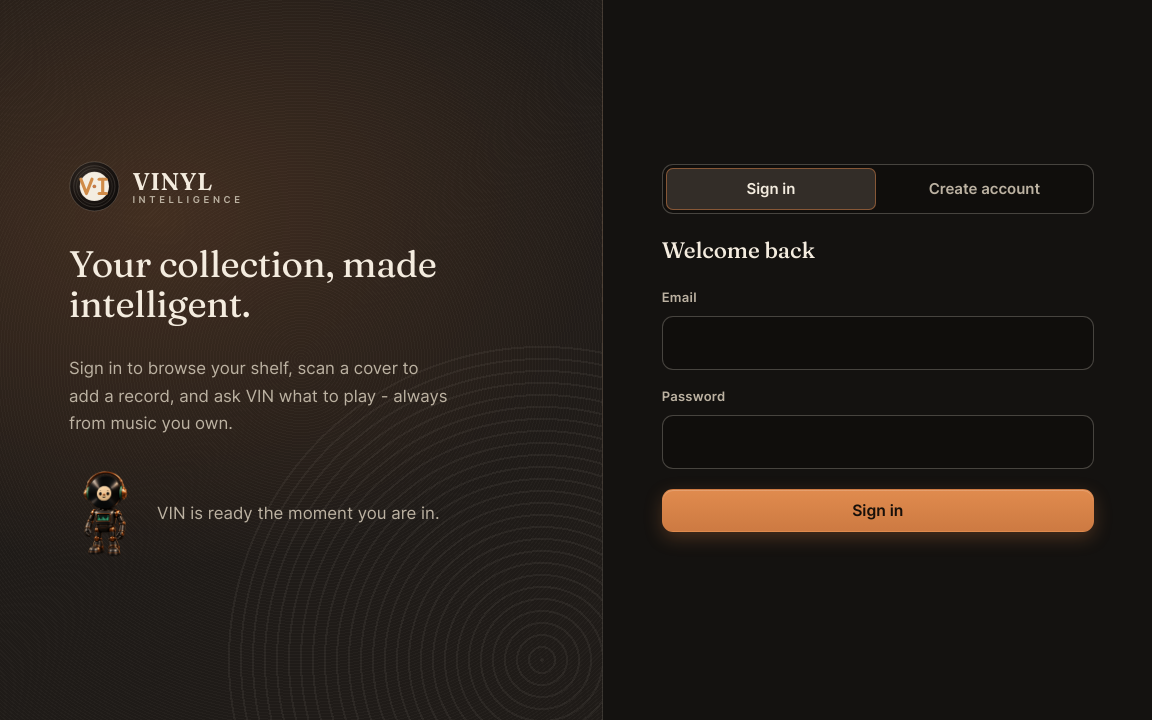
it: auth and profile workflow (routed) › keeps signup and sign-in controls available after failed signup
Click the tab "Create account".
click(984, 189)  # box [879,168,1090,210]
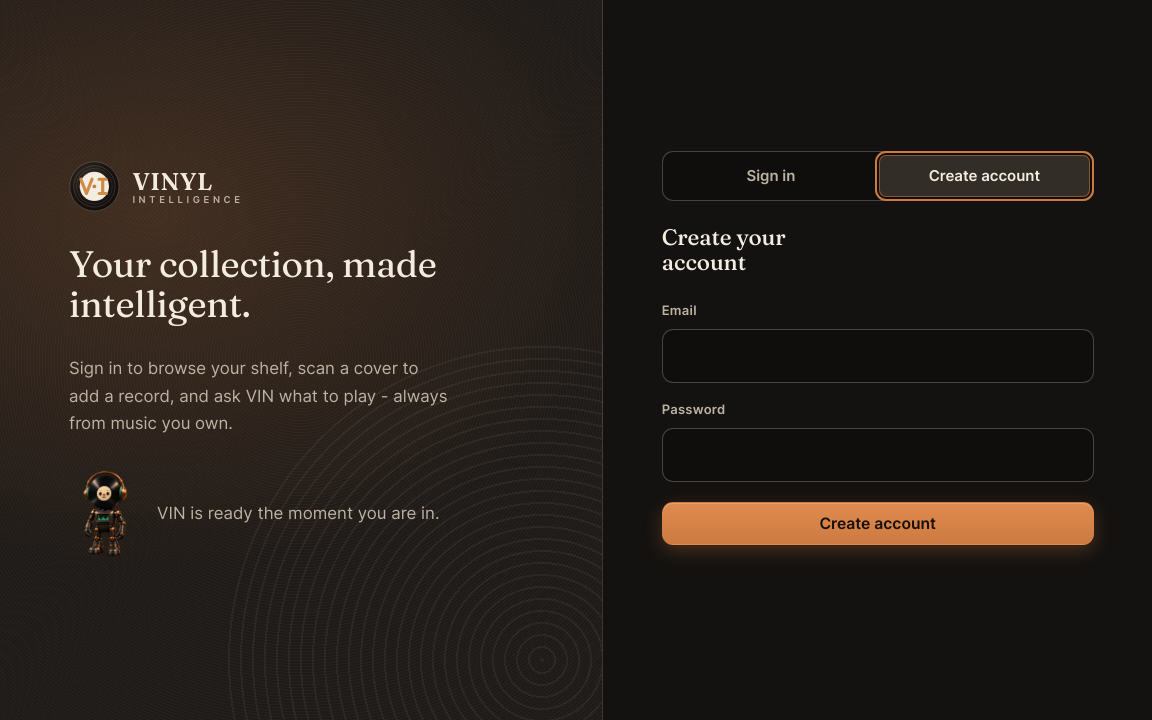
Type "new@example.test" into the field labelled "Email".
click(878, 356); type("new@example.test")  # box [662,329,1094,383]
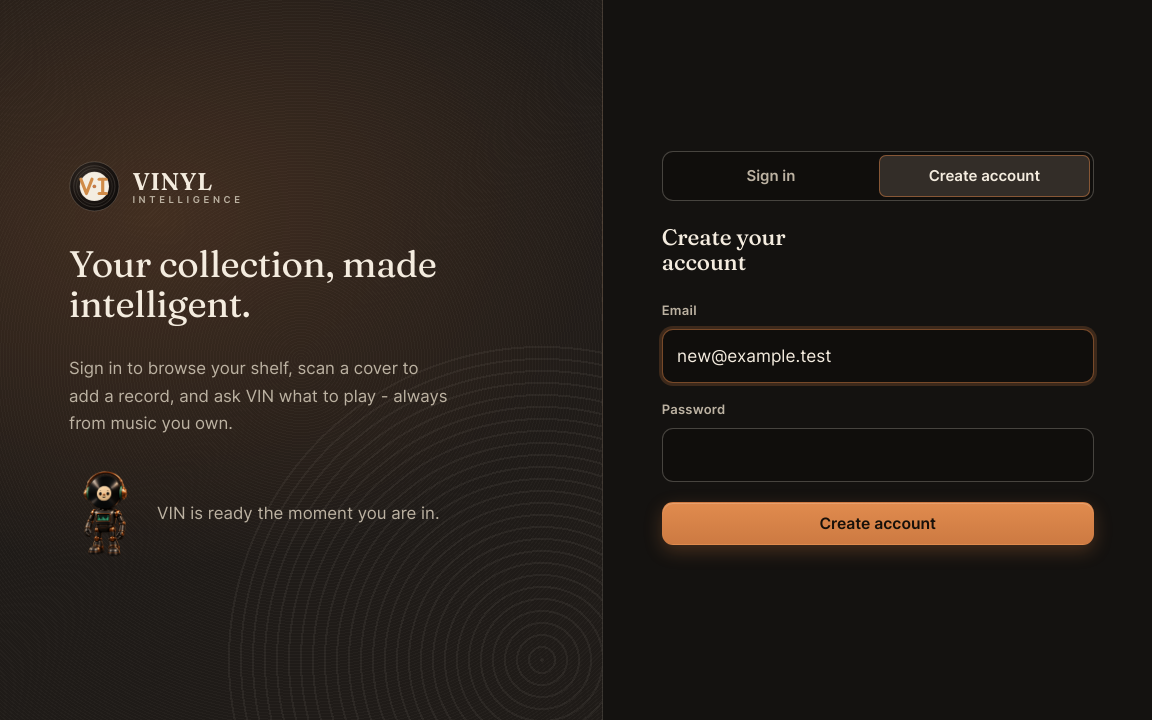
Type "password123" into the password field labelled "Password".
click(878, 455); type("password123")  # box [662,428,1094,482]
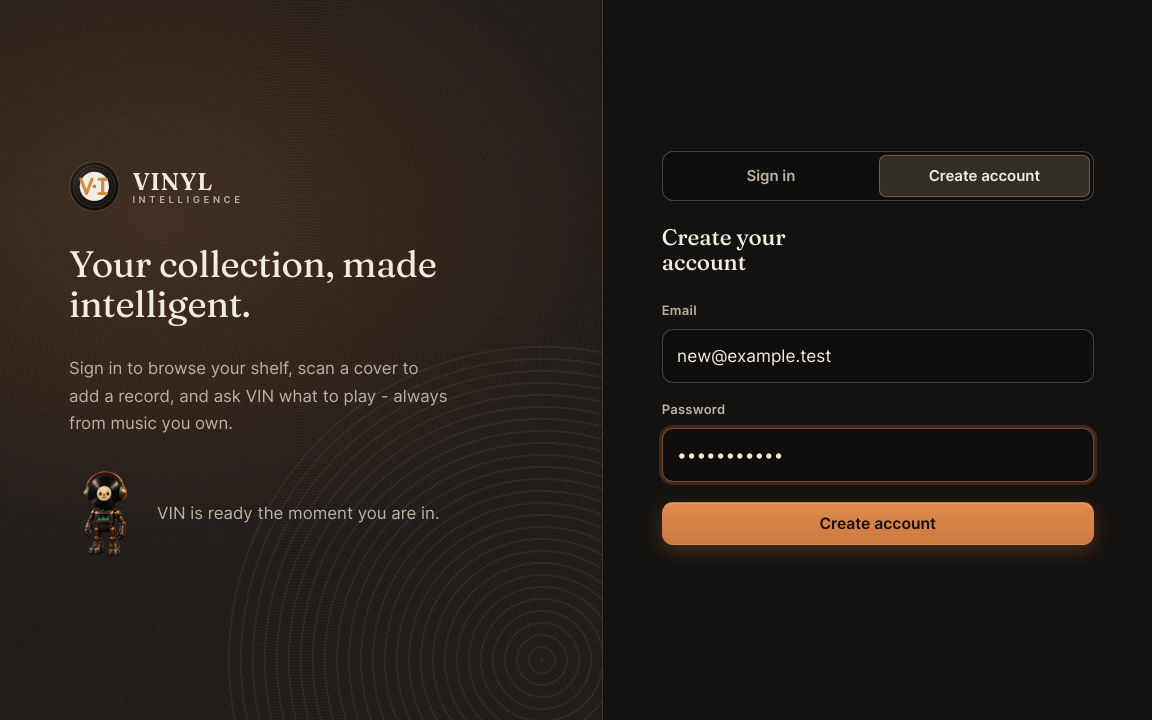
Click the button "Create account".
click(878, 523)  # box [662,502,1094,545]
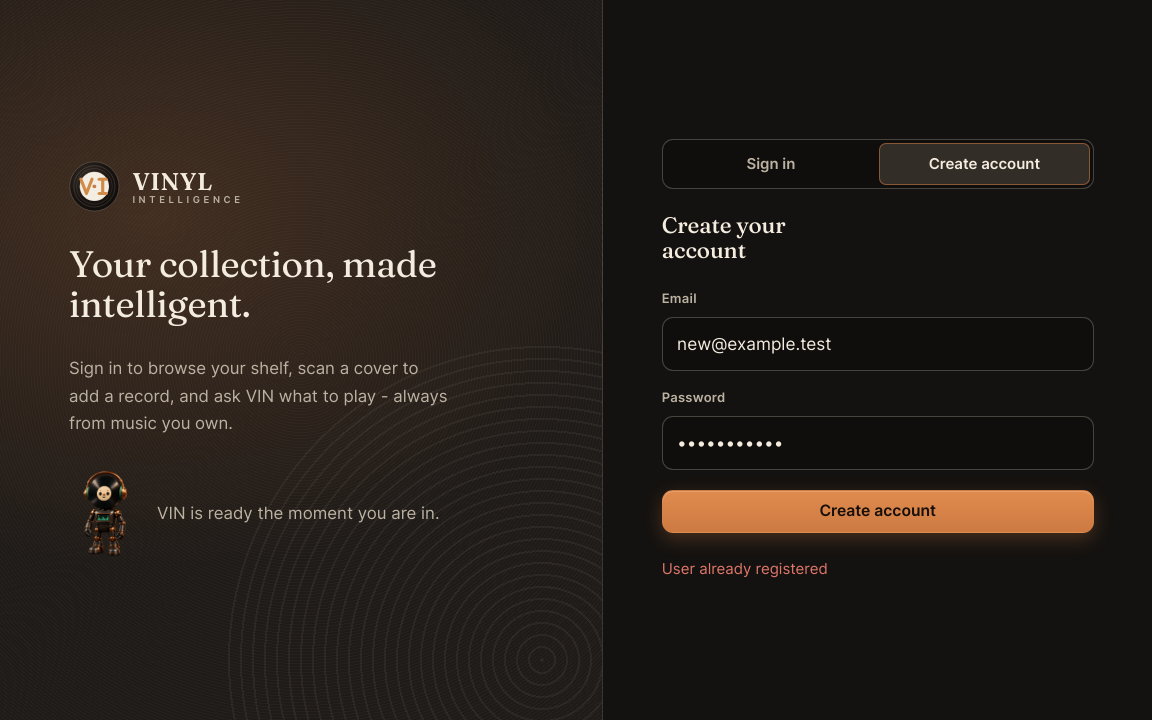
expect the tab "Sign in" is enabled: met, box [666,143,876,185]
expect the text "User already registered" is shown: met, box [662,559,828,578]
